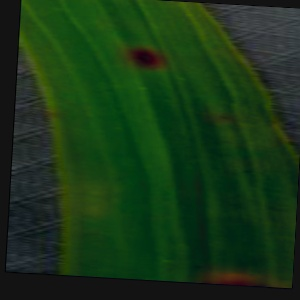Bacterial_Leaf_Blight: (123, 41, 174, 74), (217, 109, 233, 123), (240, 165, 256, 176), (191, 262, 204, 272), (225, 99, 239, 107)
